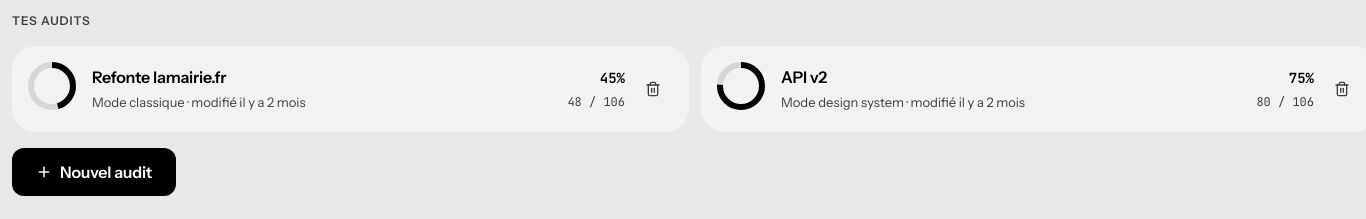
Test: HomeScreen › Suppression d'un audit › annonce que la perte est définitive
This screenshot has width=1366, height=219.
Click the button named "Supprimer l'audit Refonte lamairie.fr". click: (653, 89)
box: [633,69,673,109]
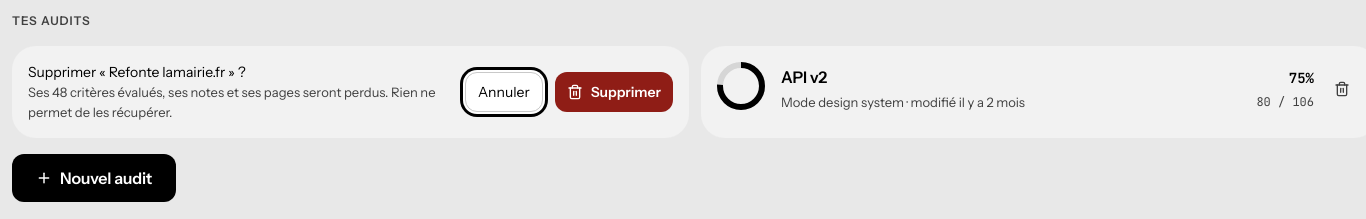
Result: the text "Rien ne permet de les récupérer" is shown at [28,84,436,120]
